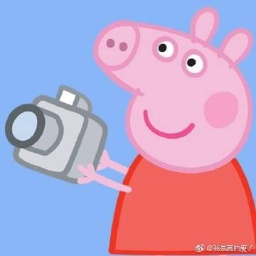Peppa: (66, 5, 256, 254)
